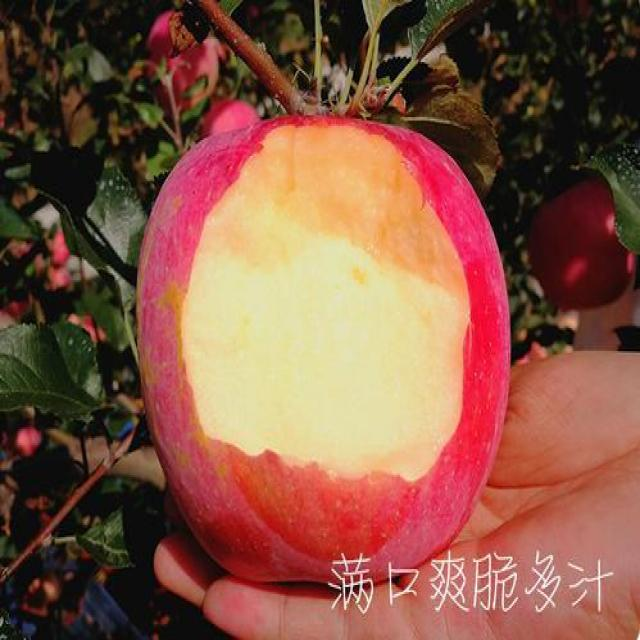Rotten: (128, 93, 516, 577)
